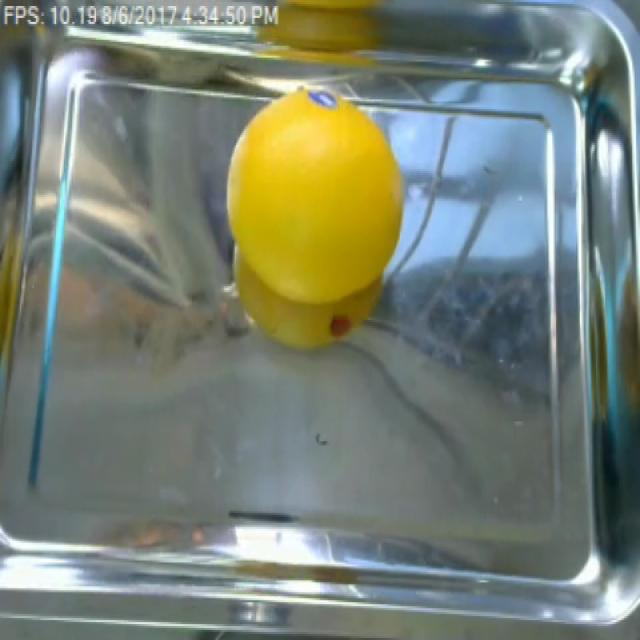Fruit: (221, 85, 408, 360), (246, 0, 409, 81)
